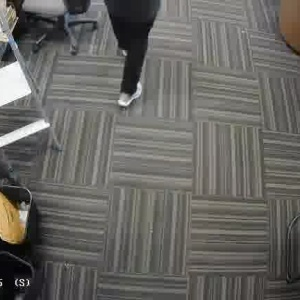person: (99, 0, 165, 103)
